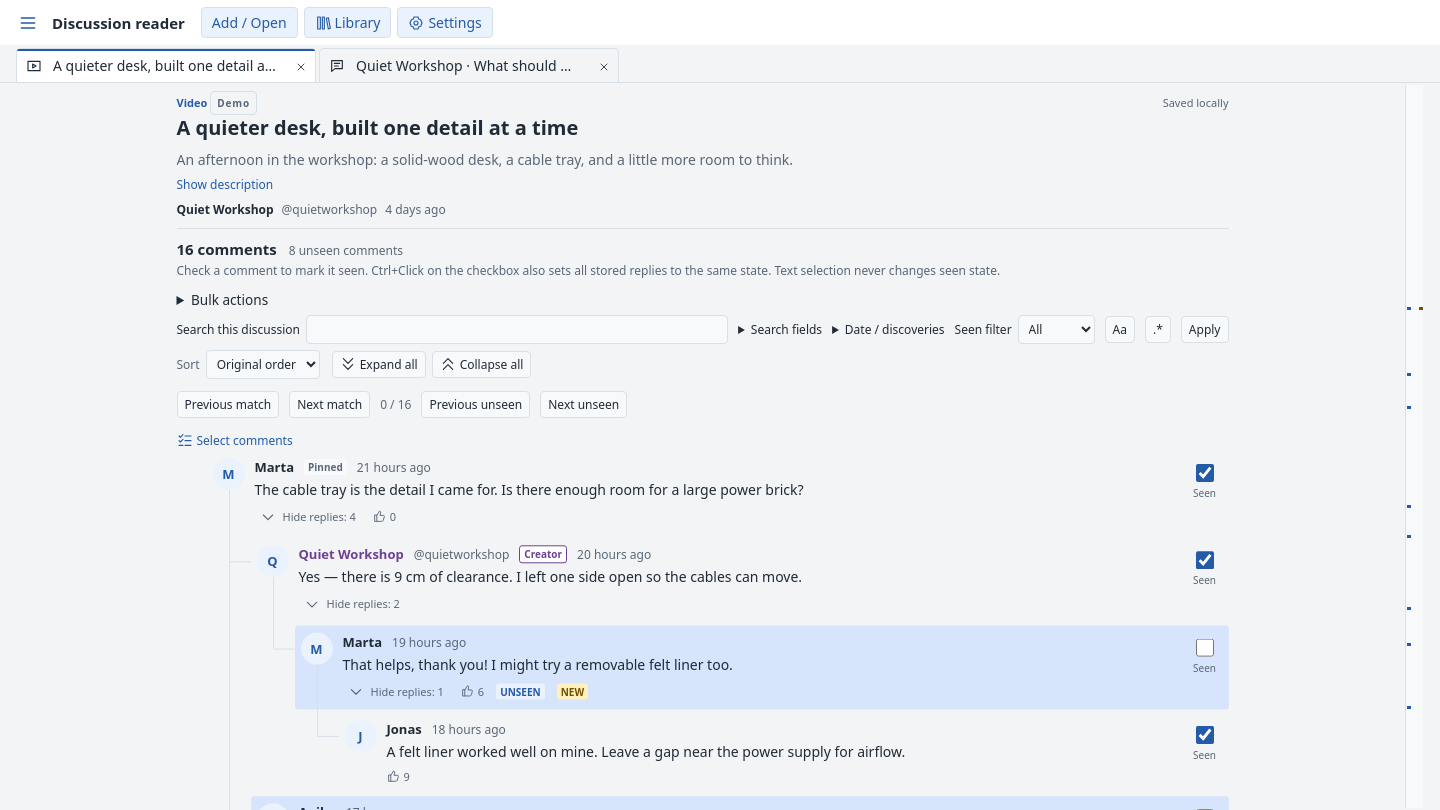
Test case: a failed tab close retains the acknowledged view and presents localized save feedback
Click the button named "Close tab: A quieter desk": (301, 66) left=290, top=52, right=312, bottom=79
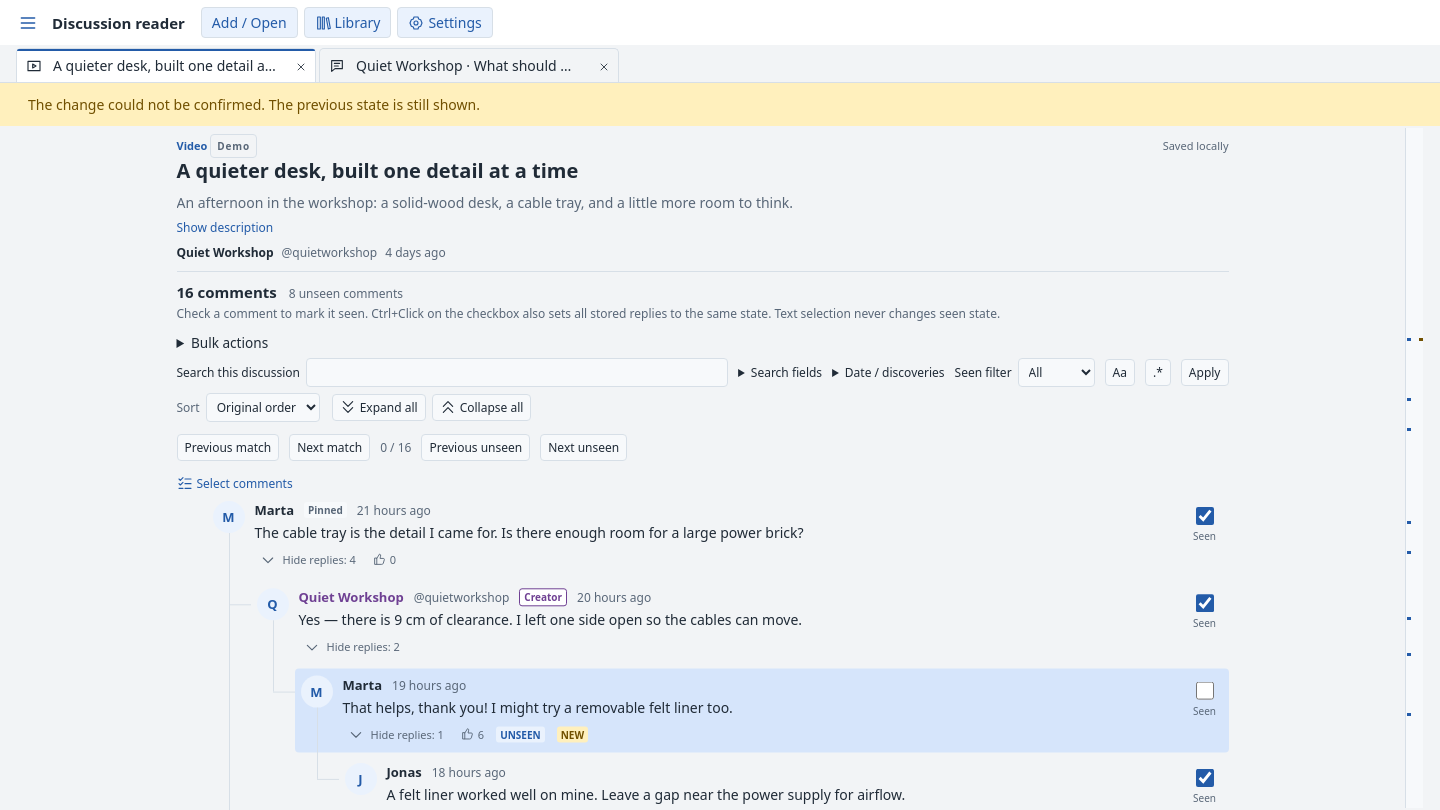
Expected: the number of tabs is 2, left=17, top=49, right=287, bottom=82; left=320, top=49, right=590, bottom=82
Result: the message shows "could not be confirmed" at left=28, top=95, right=480, bottom=114
